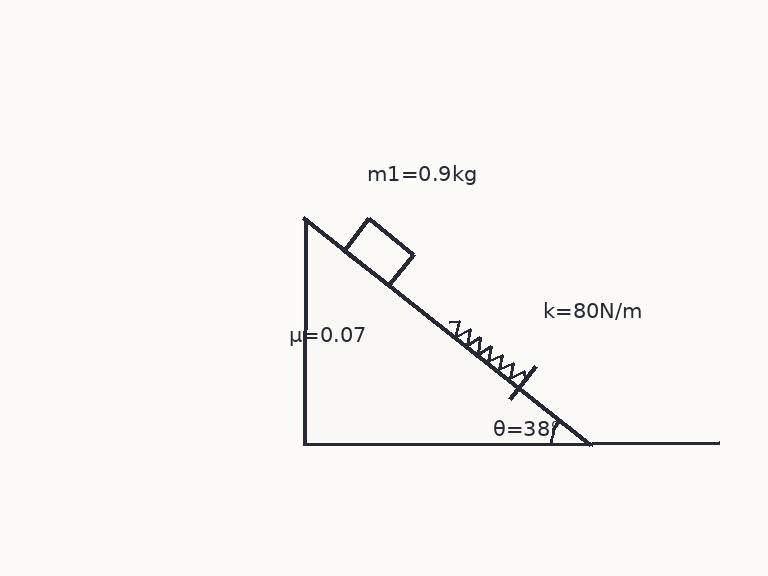block: (342, 217, 415, 287)
ramp: (301, 217, 593, 446)
spring: (448, 319, 527, 383)
